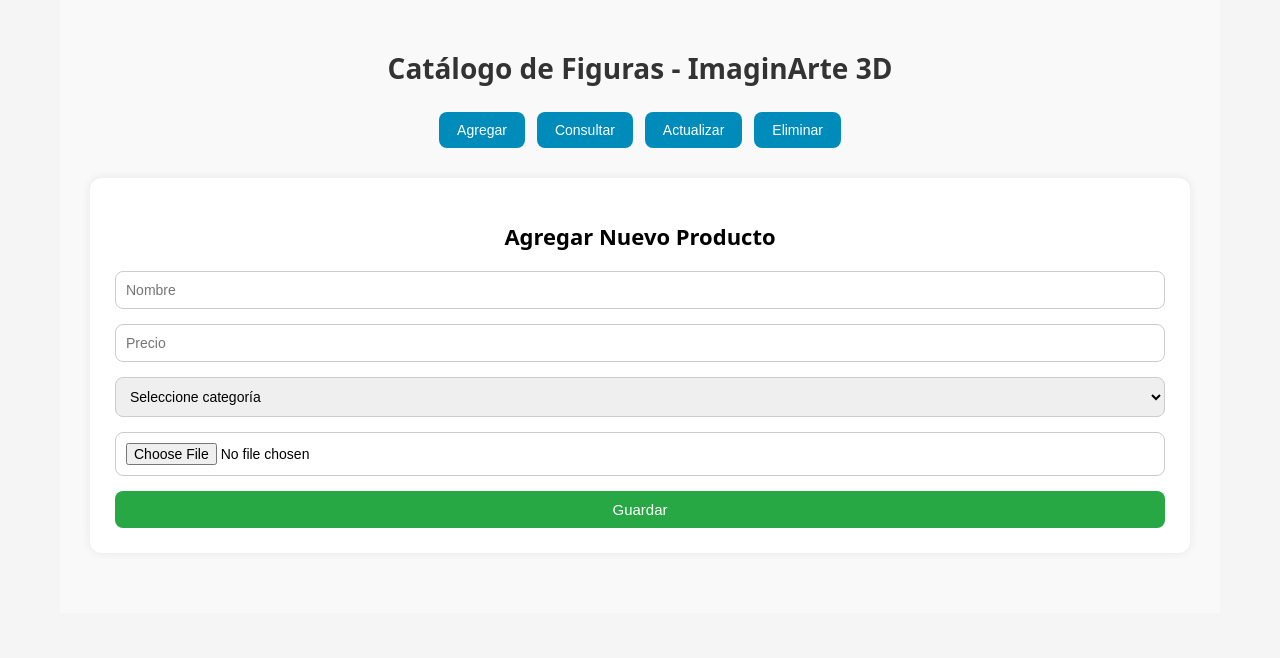
Test: CatalogoFiguras › Muestra mensaje de error si actualizar figura falla
Click the button "Consultar" at (585, 130), box x1=537 y1=112 x2=633 y2=148
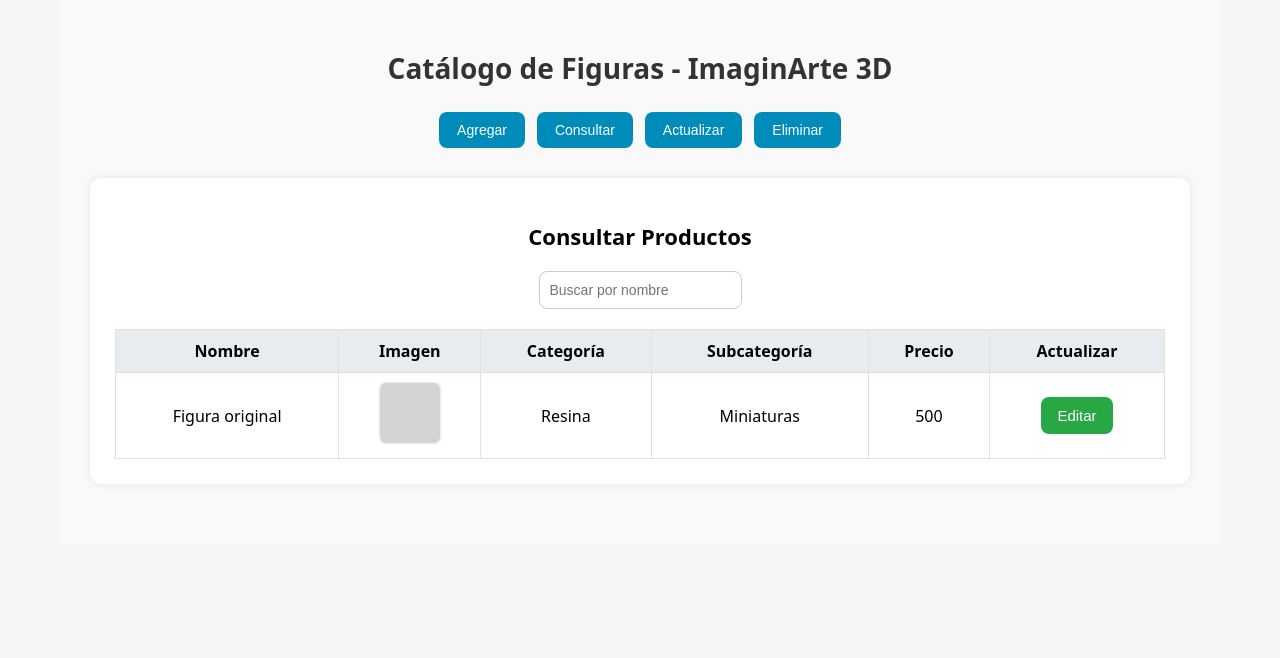
Now the text "Figura original" is shown, box x1=116 y1=372 x2=339 y2=458
Click the button "Editar" at (1077, 416), box x1=1041 y1=397 x2=1113 y2=434
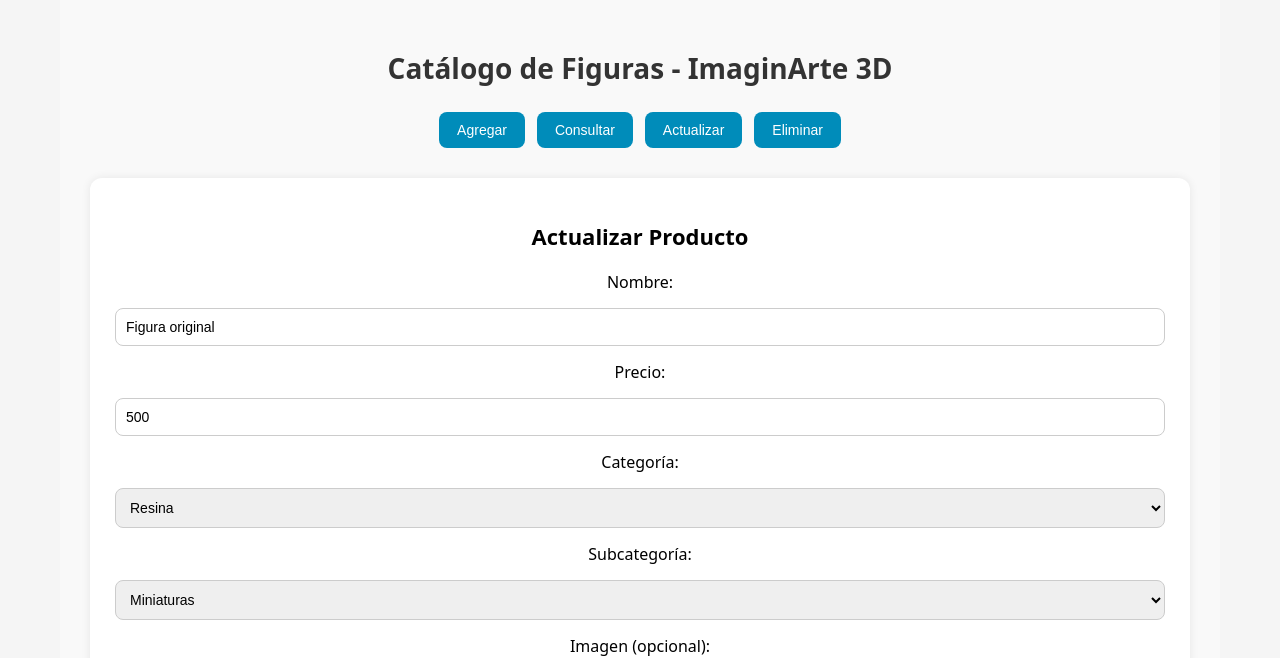
Now the heading "Actualizar Producto" is shown, box x1=532 y1=221 x2=748 y2=251
Replace the text in the field labelled "Nombre:" with "Figura fallida" at (640, 327), box x1=115 y1=308 x2=1165 y2=346
(page scrolled)
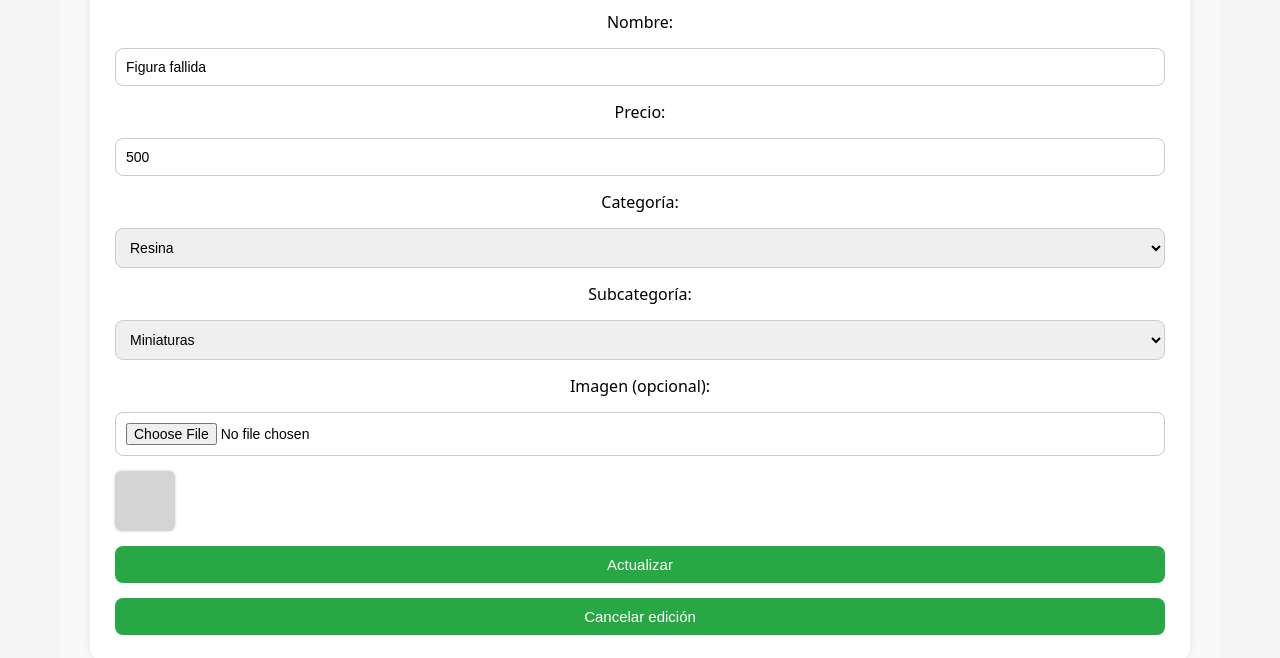
# Paso 5: click en actualizar
Click the button "Actualizar" at (640, 564), box x1=115 y1=546 x2=1165 y2=583
(page scrolled)
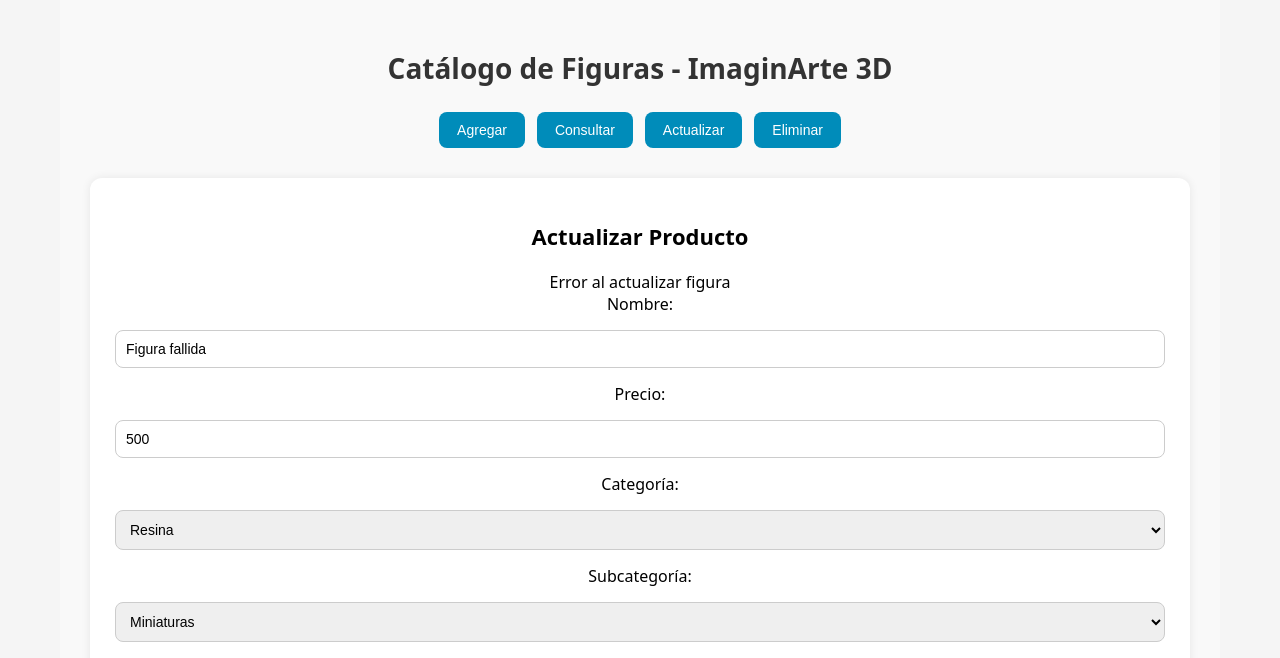
Now the message reads "Error al actualizar figura", box x1=550 y1=271 x2=730 y2=293
